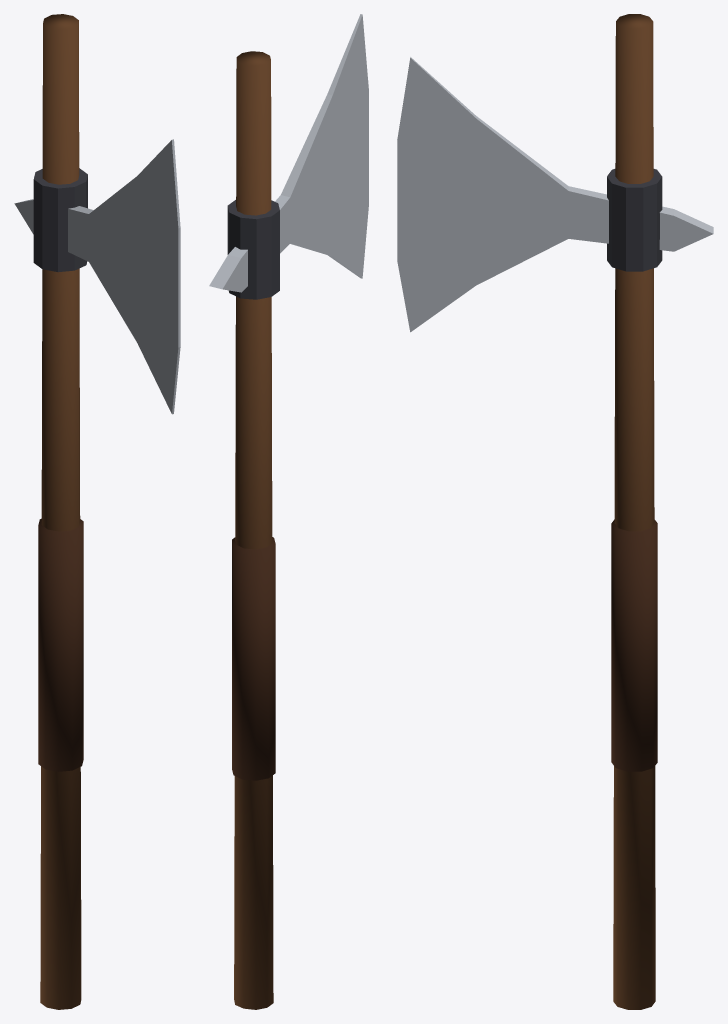
The model's file is axe.glb.
3 views of the same model, side by side, from view 1: azimuth 30°, elevation 25°; view 2: azimuth 150°, elevation 25°; view 3: azimuth 270°, elevation 25° (orthographic). The views are drawn at different scales.
Visible parts, largest first — view 1: axe; view 2: axe; view 3: axe.
Part boxes in pixels (bbox=[...]): axe: bbox=[14, 14, 180, 1009]; axe: bbox=[209, 14, 368, 1009]; axe: bbox=[397, 14, 713, 1009].
Size of the model in its own units: 0.04 by 0.8201 by 0.24.
